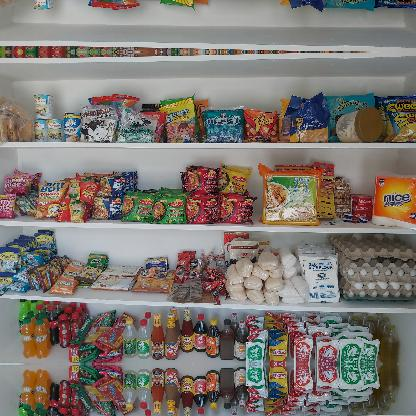Lady-s-Choice: (336, 106, 382, 142)
